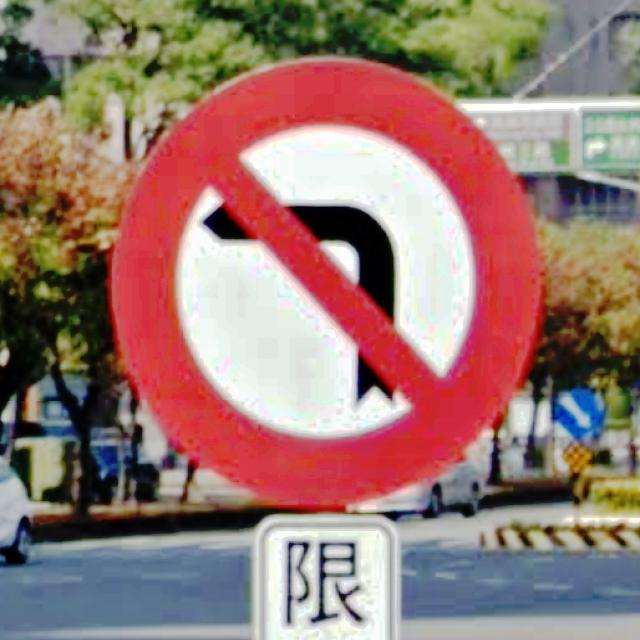noturnleft: (108, 58, 544, 510)
